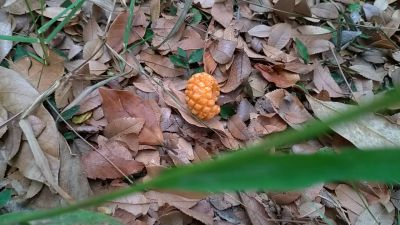eggs: (182, 67, 224, 120)
